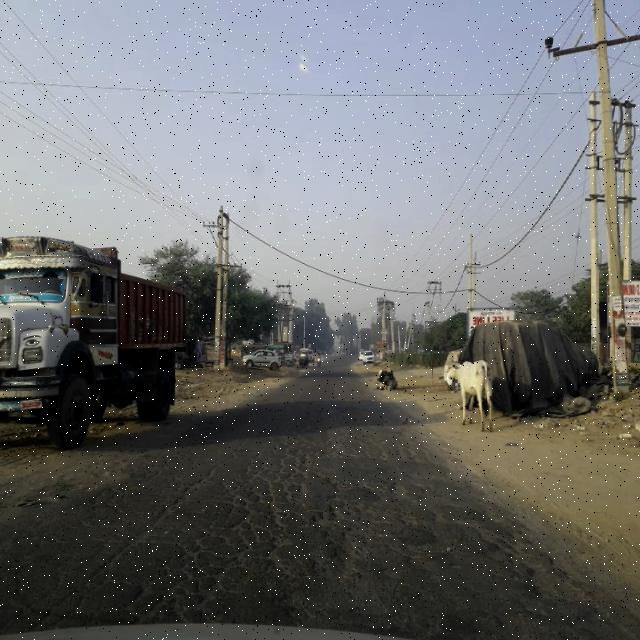D20: (1, 464, 595, 630)
